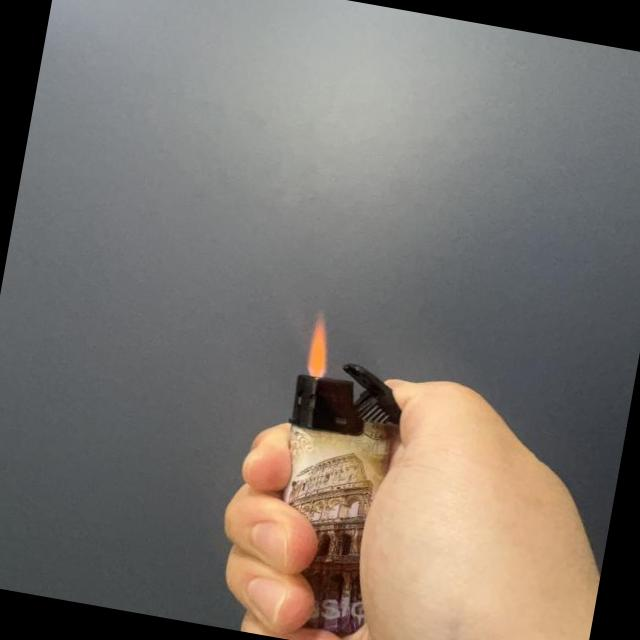Fire: (298, 310, 336, 380)
